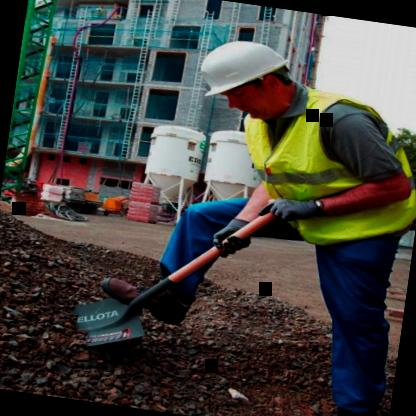helmet: (184, 22, 313, 130)
